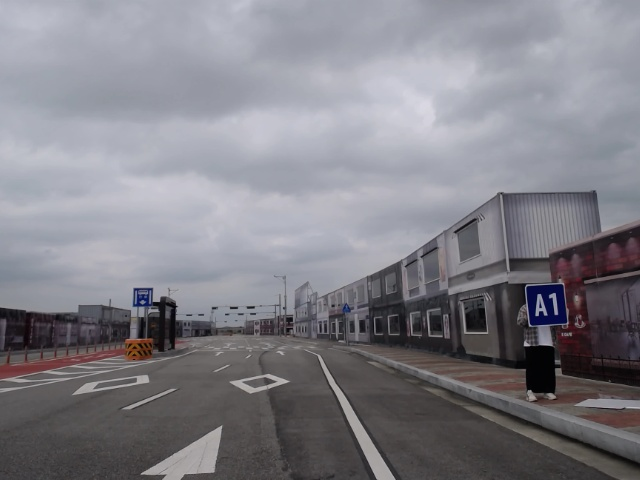delivery_a1: (524, 283, 568, 327)
